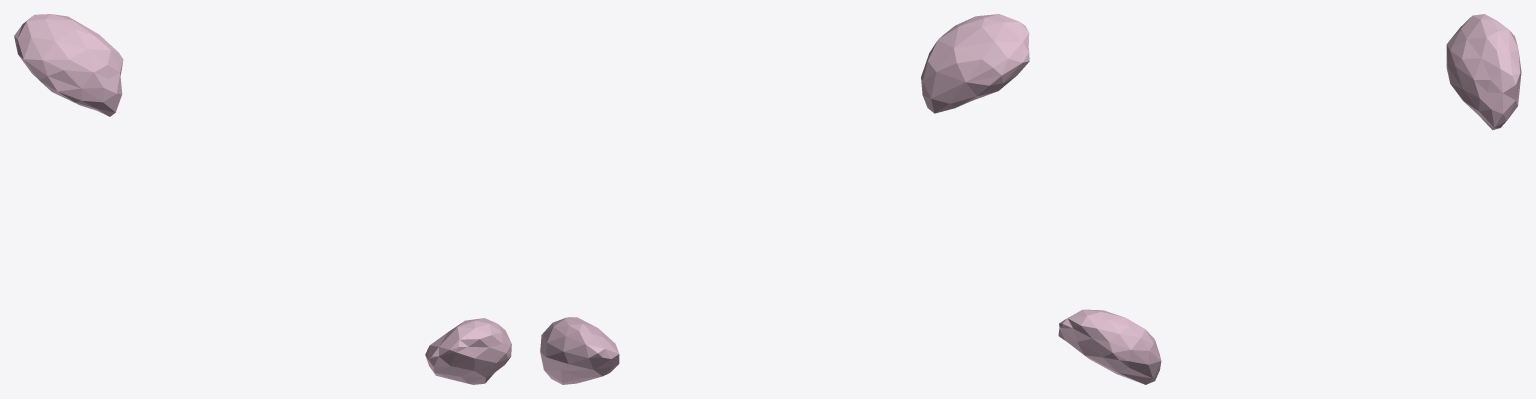
The picture shows the model from 3 angles, left to right: view 1: azimuth 30°, elevation 25°; view 2: azimuth 150°, elevation 25°; view 3: azimuth 330°, elevation 25°; orthographic projection. The views are drawn at different scales.
Visible parts, largest first — view 1: 372.obj; view 2: 372.obj; view 3: 372.obj.
Boxes of the visible parts, bbox=[...] form: 372.obj: bbox=[14, 14, 511, 384]; 372.obj: bbox=[540, 14, 1029, 384]; 372.obj: bbox=[1058, 14, 1521, 384].
Size of the model in its own units: 344 by 332 by 3007.
